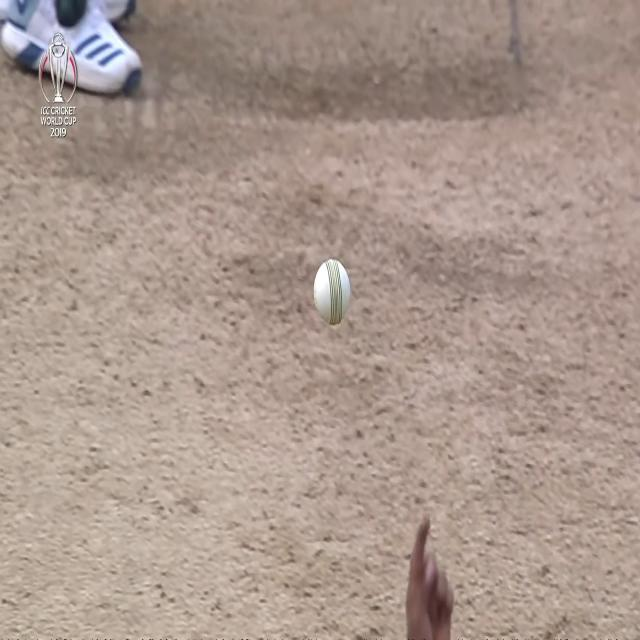Cricket ball: (314, 256, 352, 328)
